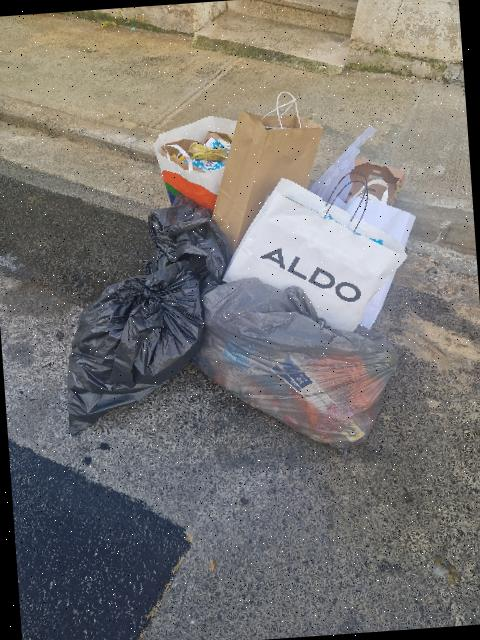Other: (223, 178, 406, 331), (212, 110, 322, 252), (309, 126, 414, 245), (153, 116, 236, 210)
Recyclable -Grey-: (192, 277, 397, 449), (67, 255, 208, 433), (145, 194, 230, 279)
